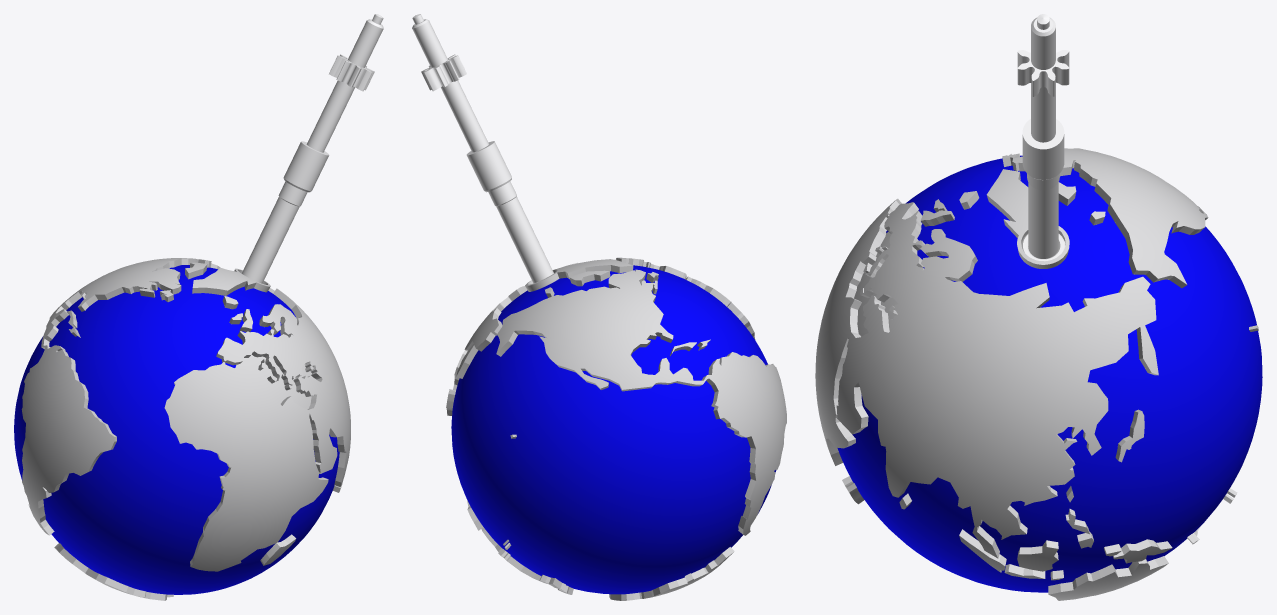
File: globe_white_gold.glb
The picture shows the model from 3 angles, left to right: view 1: azimuth 30°, elevation 25°; view 2: azimuth 150°, elevation 25°; view 3: azimuth 270°, elevation 25°; orthographic projection. The views are drawn at different scales.
Visible parts, largest first — view 1: astronomia:NONE.006, astronomia:Importée1.202; view 2: astronomia:NONE.006, astronomia:Importée1.202; view 3: astronomia:NONE.006, astronomia:Importée1.202.
Part boxes in pixels (left/top/right/bottom): astronomia:NONE.006: left=14, top=258, right=350, bottom=600; astronomia:Importée1.202: left=242, top=14, right=383, bottom=283; astronomia:NONE.006: left=446, top=257, right=786, bottom=600; astronomia:Importée1.202: left=412, top=14, right=553, bottom=283; astronomia:NONE.006: left=815, top=148, right=1262, bottom=600; astronomia:Importée1.202: left=1017, top=14, right=1069, bottom=258.
Size of the model in its own units: 0.00971 by 0.0138 by 0.00804.
